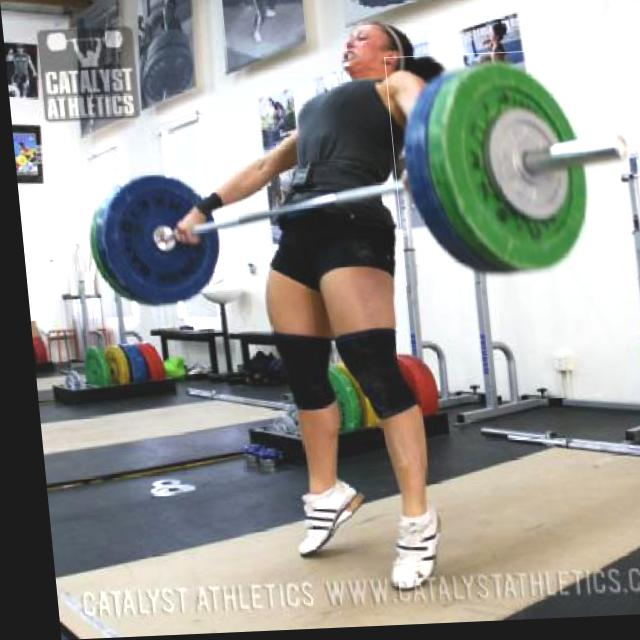barbell: (383, 53, 640, 291)
